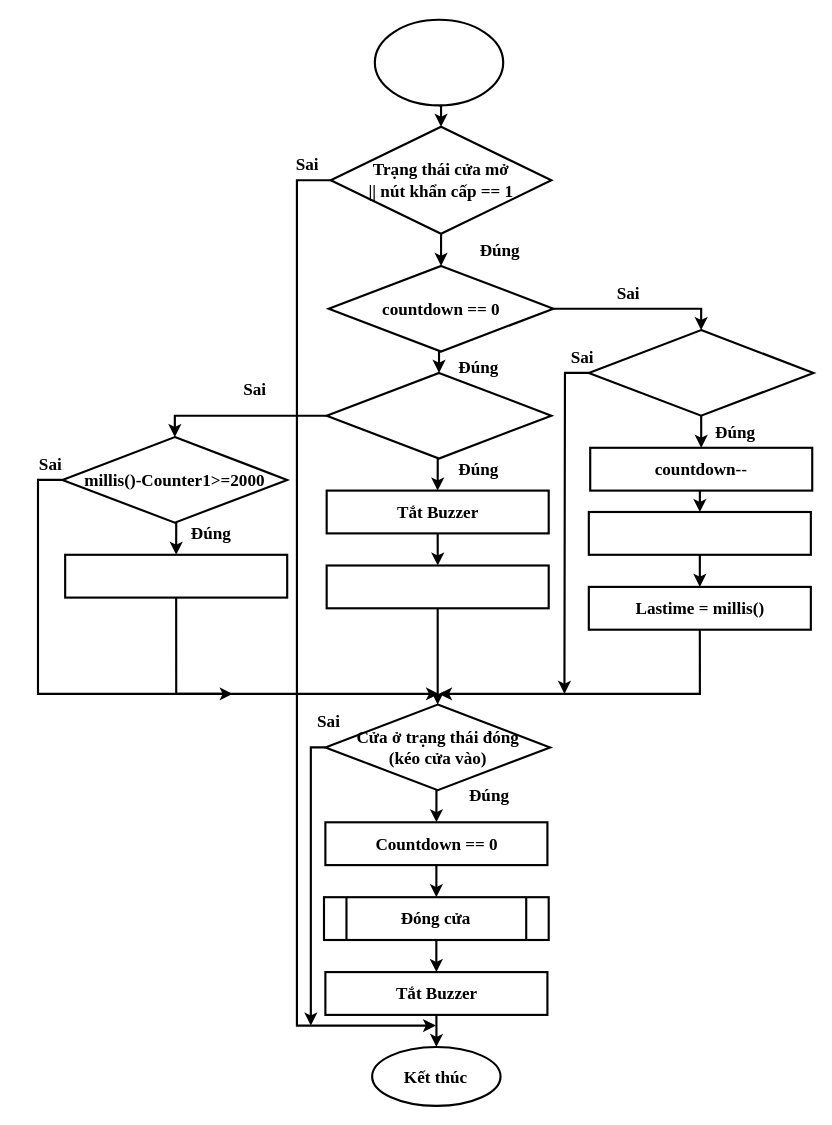
This 832x1125 diagram has some shape labels left out. The shapes that lost their labels are listed below. From the top down, each one's centre as x and y in pixels, then its label:
At point (438, 62): "Bắt đầu báo động cửa chưa đóng".
At point (700, 372): "millis()-Lastime>=1000".
At point (438, 415): "millis()-Counter1>=4000".
At point (699, 532): "Hiển thị thời gian countdown lên LCD".
At point (176, 575): "Bật Buzzer".
At point (437, 586): "Counter1 = millis()".
